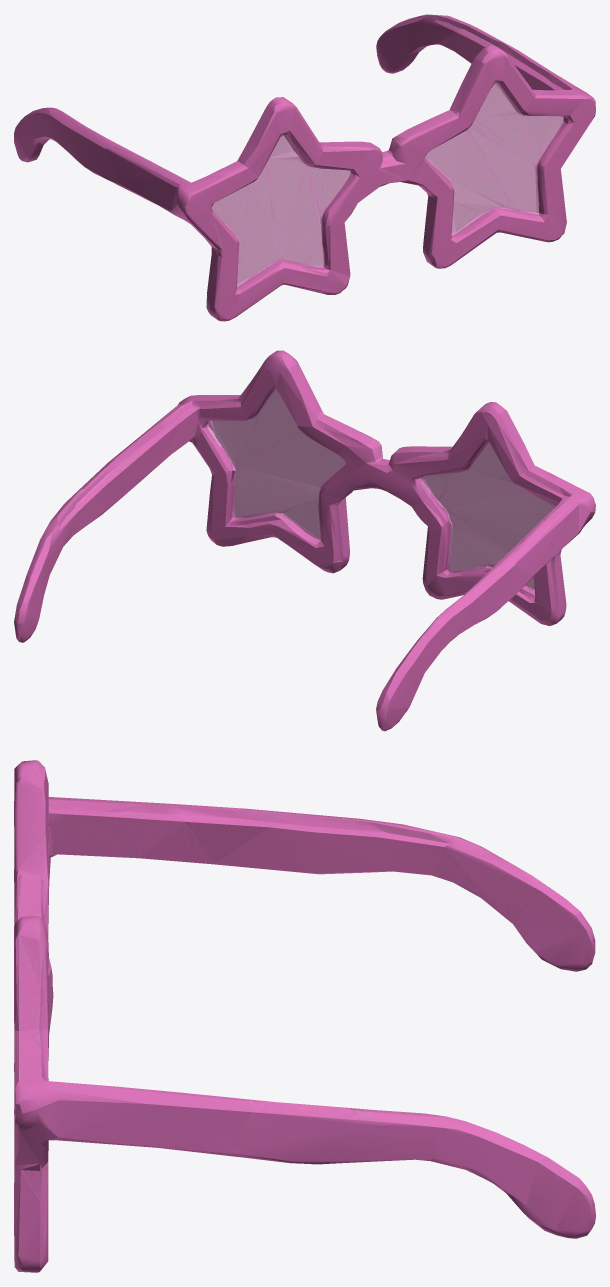
Rendered from glasses_star.fbx.
3 renders of one model, top to bottom at view 1: azimuth 30°, elevation 25°; view 2: azimuth 150°, elevation 25°; view 3: azimuth 270°, elevation 25°, orthographic. The views are drawn at different scales.
Visible parts, largest first — view 1: Mesh_0; view 2: Mesh_0; view 3: Mesh_0.
Boxes of the visible parts, <box> form: Mesh_0: <box>14,14,595,321</box>; Mesh_0: <box>14,350,595,731</box>; Mesh_0: <box>14,760,595,1272</box>.
Size of the model in its own units: 1.9 by 0.9044 by 1.54.
1 material, 1 textured.
